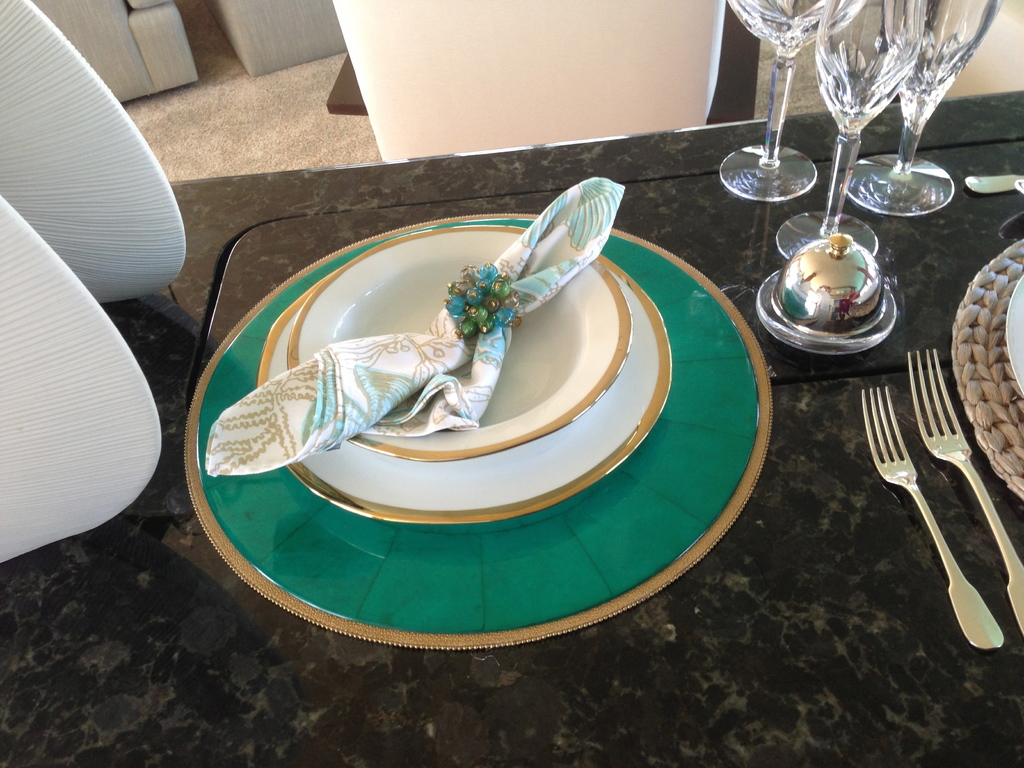plate: (170, 202, 775, 655)
